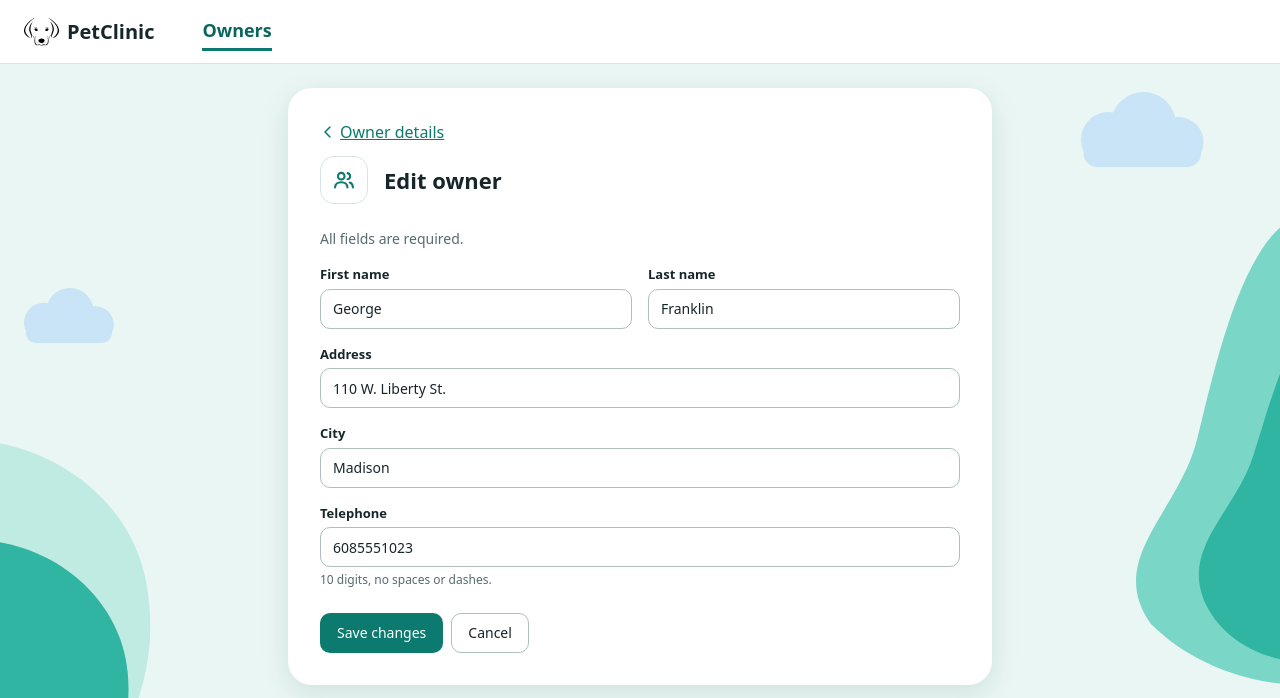
EditOwnerPage › keeps the form and shows the server message when saving fails
Click the button "Save changes": [382, 633] box [320,613,443,653]
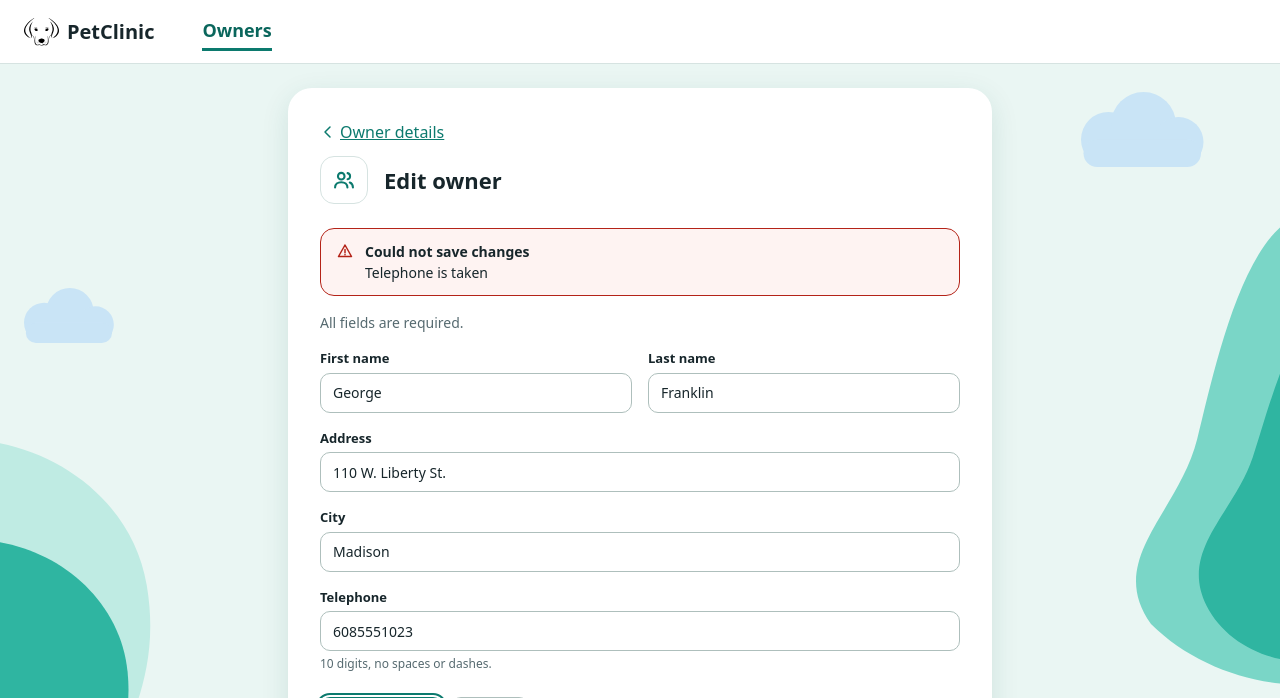
Expected: the field labelled "Last name" holds "Franklin", [648,372,960,412]
Expected: the message shows "Telephone is taken", [365,263,488,282]
